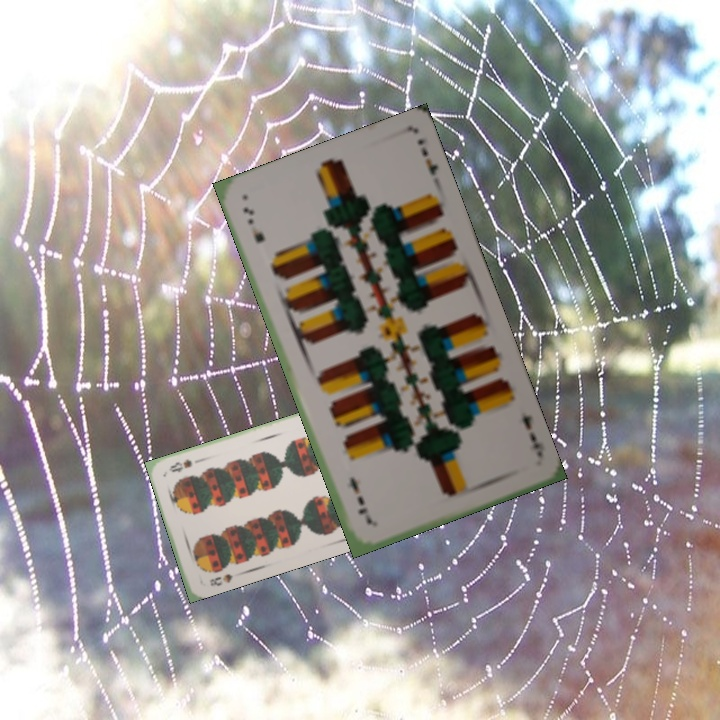E7: (518, 411, 547, 460), (238, 203, 267, 246)
S8: (205, 570, 235, 589)
